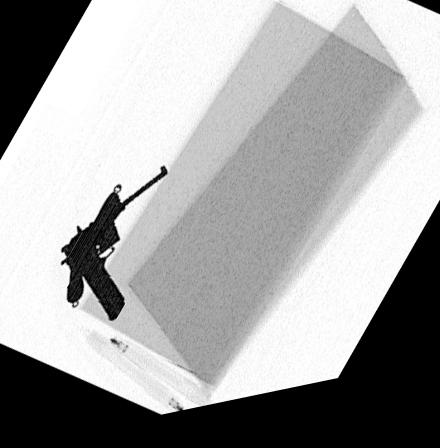Gun: (61, 171, 167, 305), (61, 194, 126, 325)
